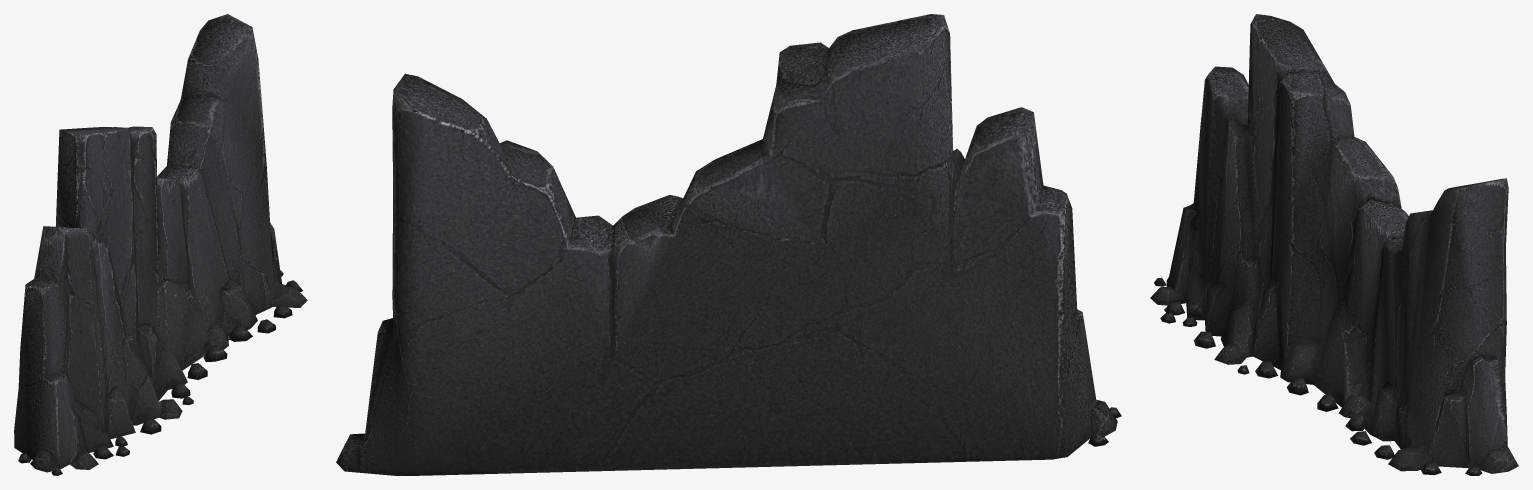
File: tripo_convert_60e20e46-5eb9-4e86-8484-f3c321f29a4c.fbx
3 views of the same model, side by side, from view 1: azimuth 30°, elevation 25°; view 2: azimuth 150°, elevation 25°; view 3: azimuth 270°, elevation 25° (orthographic). The views are drawn at different scales.
Parts seen in each view (by area): view 1: tripo_node_60e20e46; view 2: tripo_node_60e20e46; view 3: tripo_node_60e20e46.
Boxes of the visible parts, x1,y1,x2,y2 form: tripo_node_60e20e46: (14, 14, 307, 475); tripo_node_60e20e46: (336, 14, 1121, 475); tripo_node_60e20e46: (1150, 14, 1518, 475).
Size of the model in its own units: 0.998 by 0.709 by 0.7754.
1 material, 1 textured.
